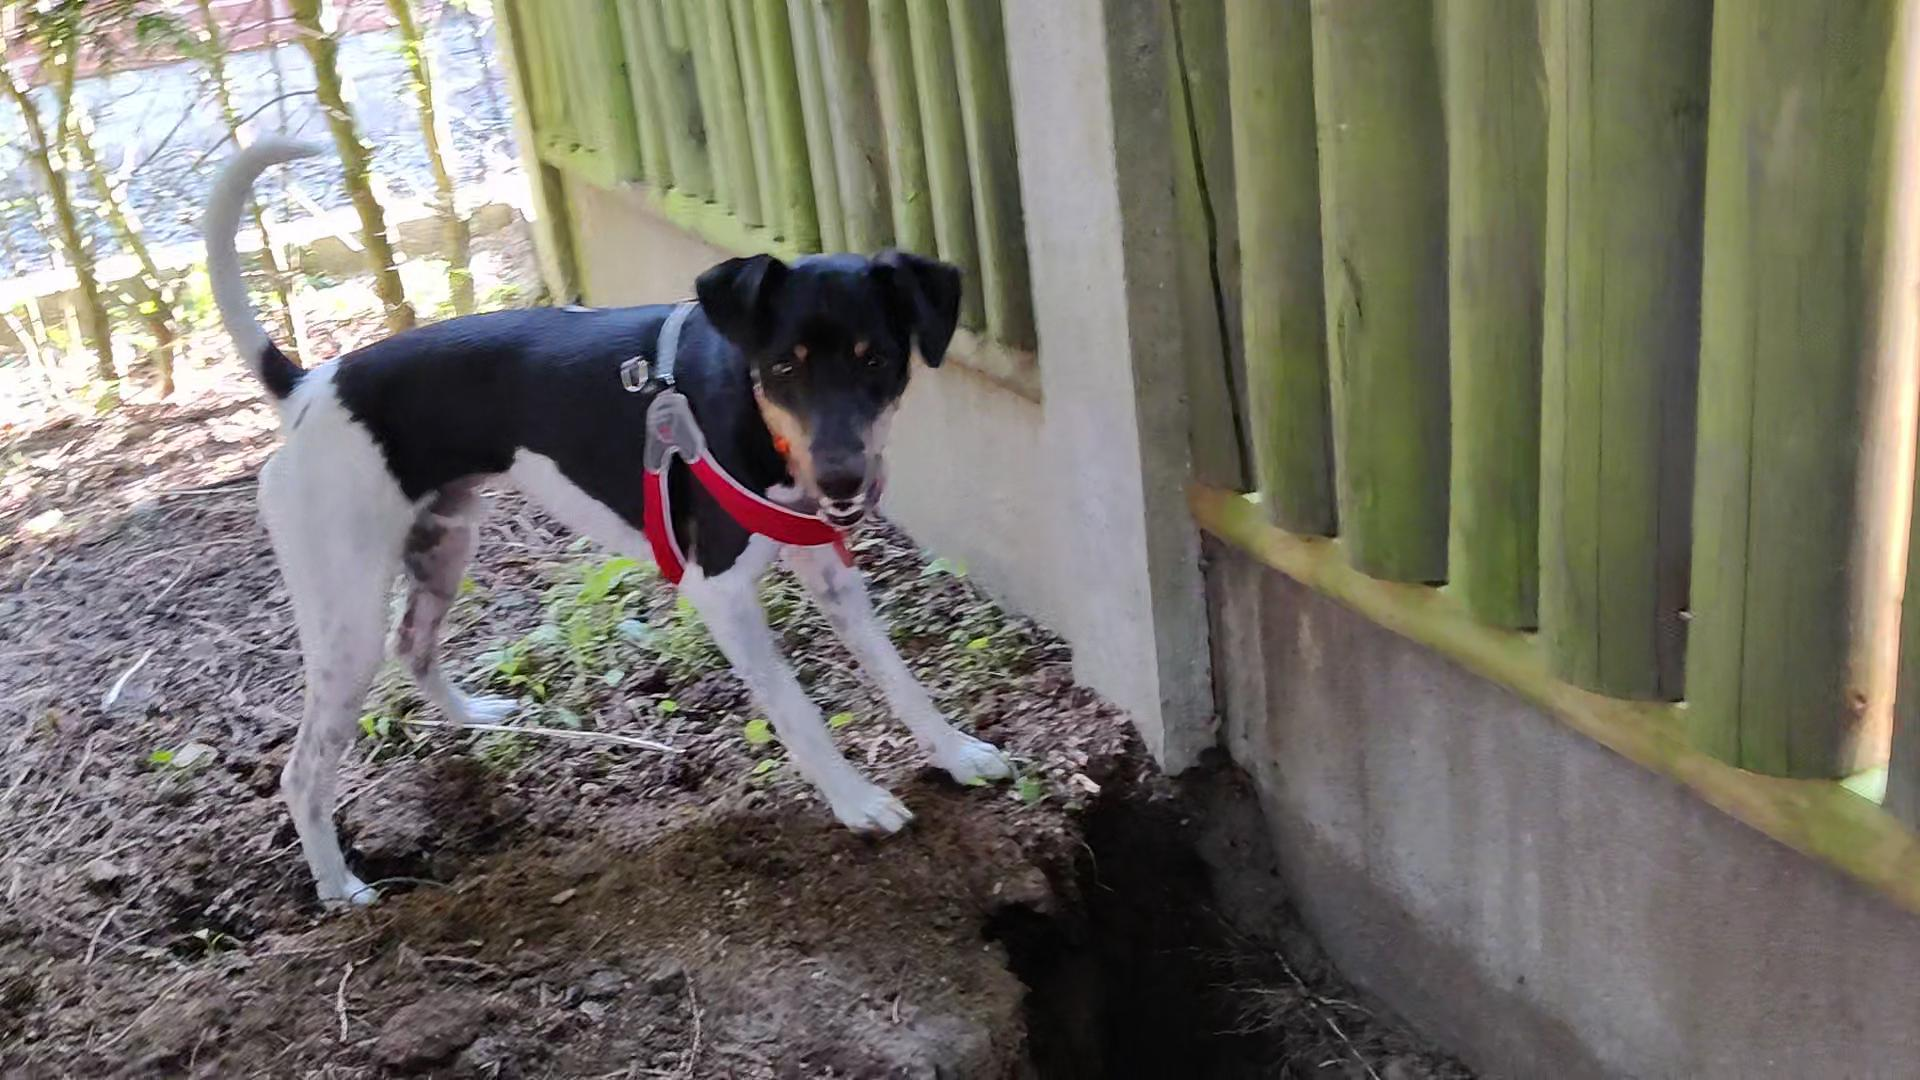Dog: (185, 113, 1065, 919)
